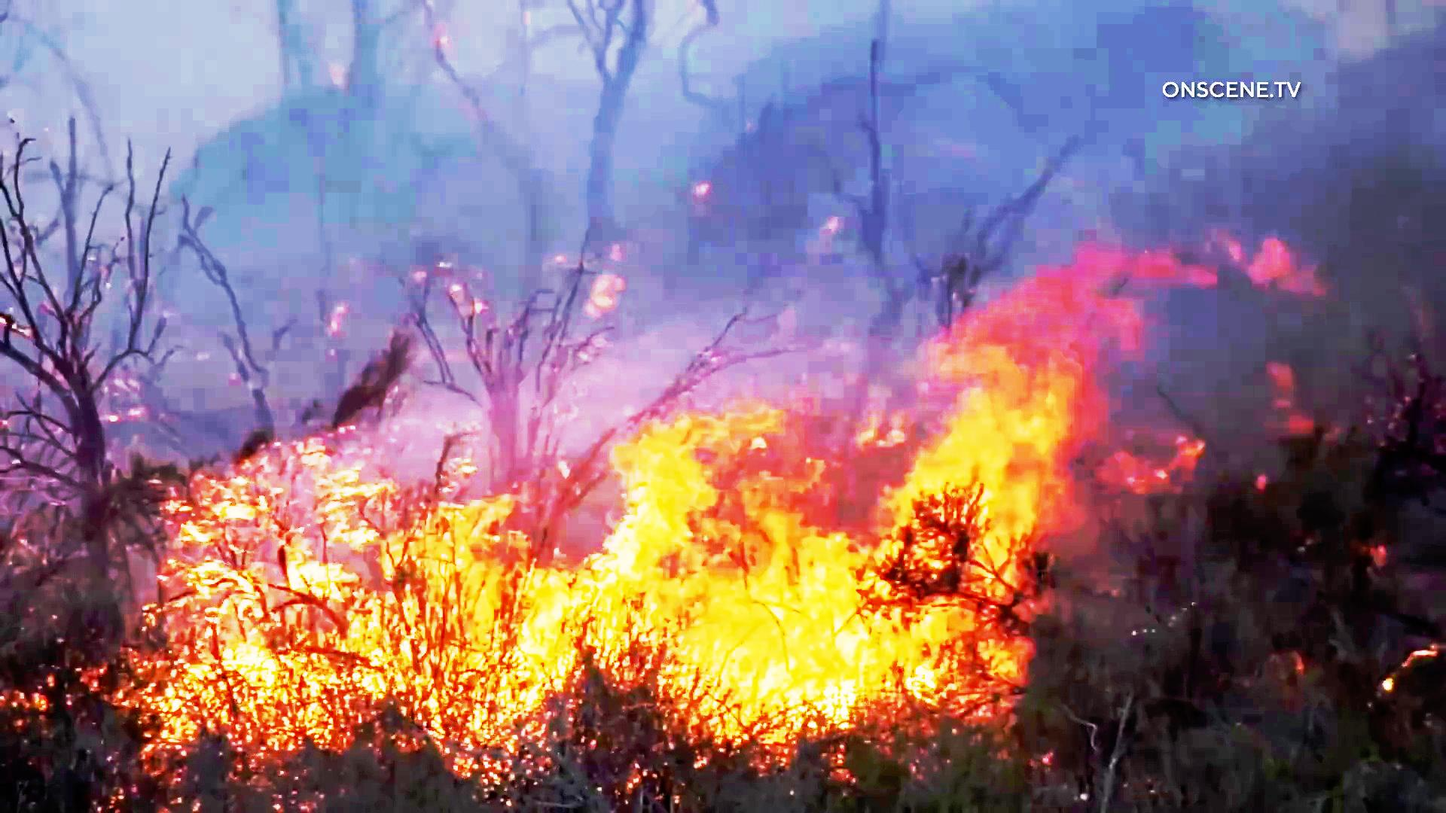fire: (179, 273, 1138, 736)
